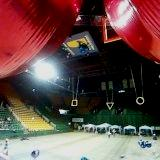Yellow_Circle_GShape: (136, 97, 144, 105)
Yellow_Square_GShape: (71, 99, 78, 107)
Yellow_Triangle_Gshape: (105, 102, 114, 110)
